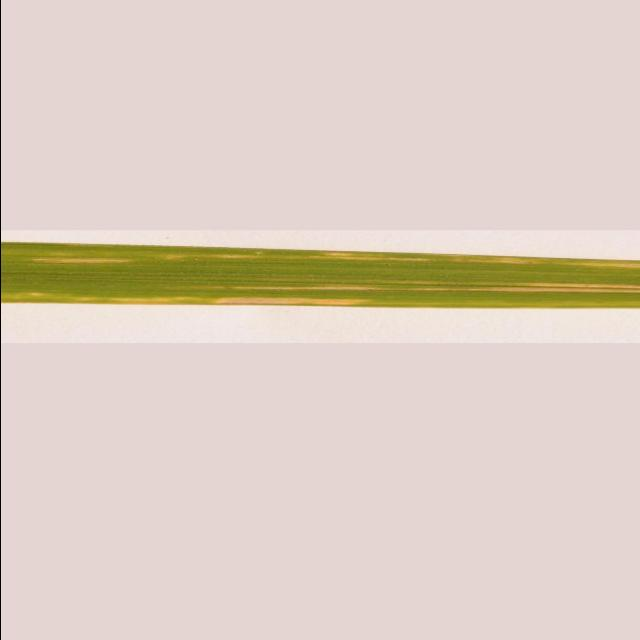Bacterial leaf blight: (0, 241, 640, 313)
